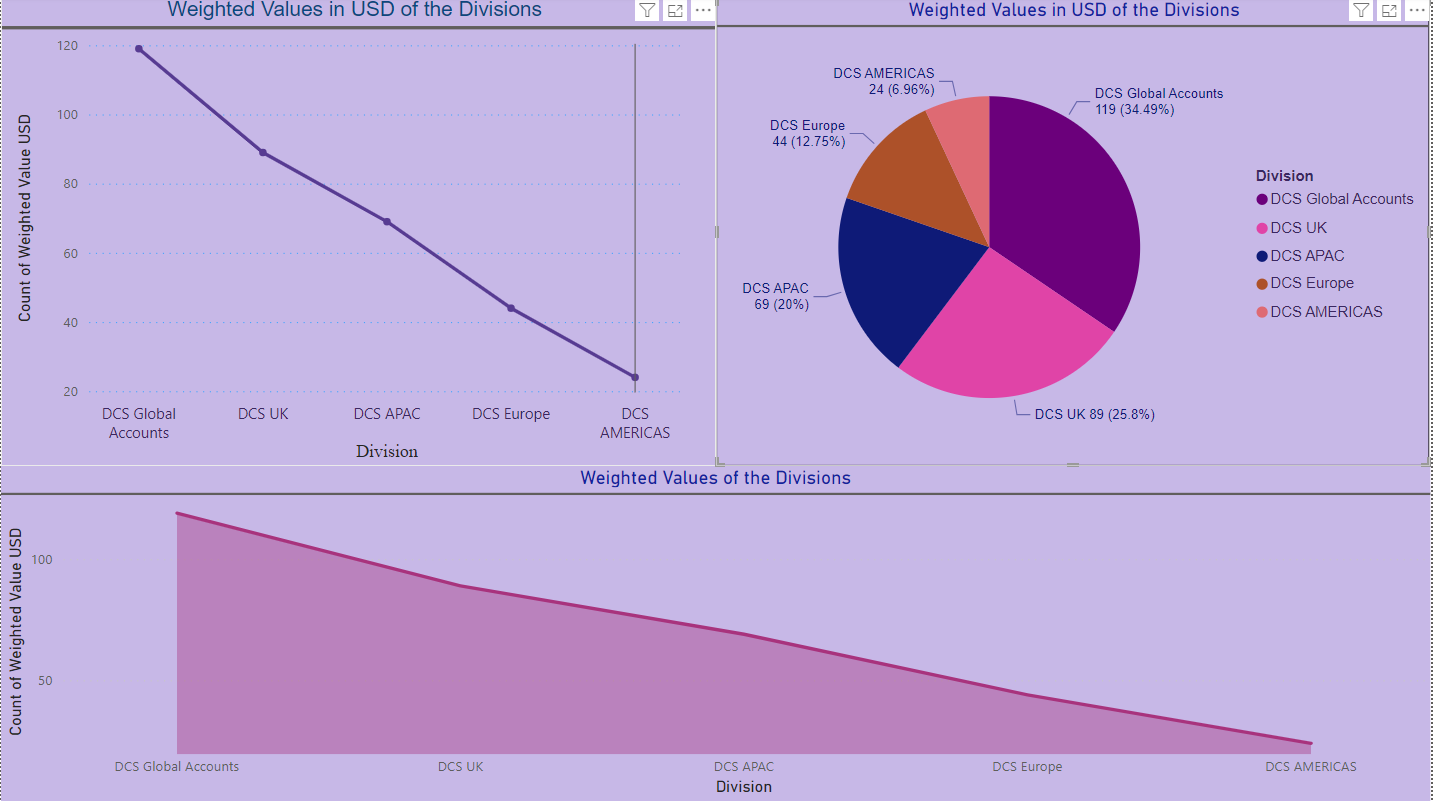

What the dashboard file says about the page in this screenshot:
{"tool":"powerbi","page":{"name":"Page 1","canvas":[1280,720],"ordinal":0},"visuals":[{"type":"lineChart","title":"Weighted Values in USD of the Divisions","fields":{"Category":["Work Sheet.Division"],"Y":["CountNonNull(Work Sheet.Weighted Value USD)"]},"box":[0,0,640.3,420],"z":0},{"type":"pieChart","title":"Weighted  Values in USD of the Divisions","fields":{"Category":["Work Sheet.Division"],"Y":["CountNonNull(Work Sheet.Weighted Value USD)"]},"box":[640.3,0,639.4,420],"z":1000},{"type":"areaChart","title":"Weighted Values of the Divisions","fields":{"Category":["Work Sheet.Division"],"Y":["CountNonNull(Work Sheet.Weighted Value USD)"]},"box":[0,420,1279.7,300],"z":2000}]}

Visuals, with their boxes in screenshot pixels (x1, y1, x2, y2), scaled from the page's 1280x720 canvas onto the 1435x801 screenshot:
"Weighted Values in USD of the Divisions" lineChart: 0, 0, 718, 467
"Weighted  Values in USD of the Divisions" pieChart: 718, 0, 1434, 467
"Weighted Values of the Divisions" areaChart: 0, 467, 1434, 800
